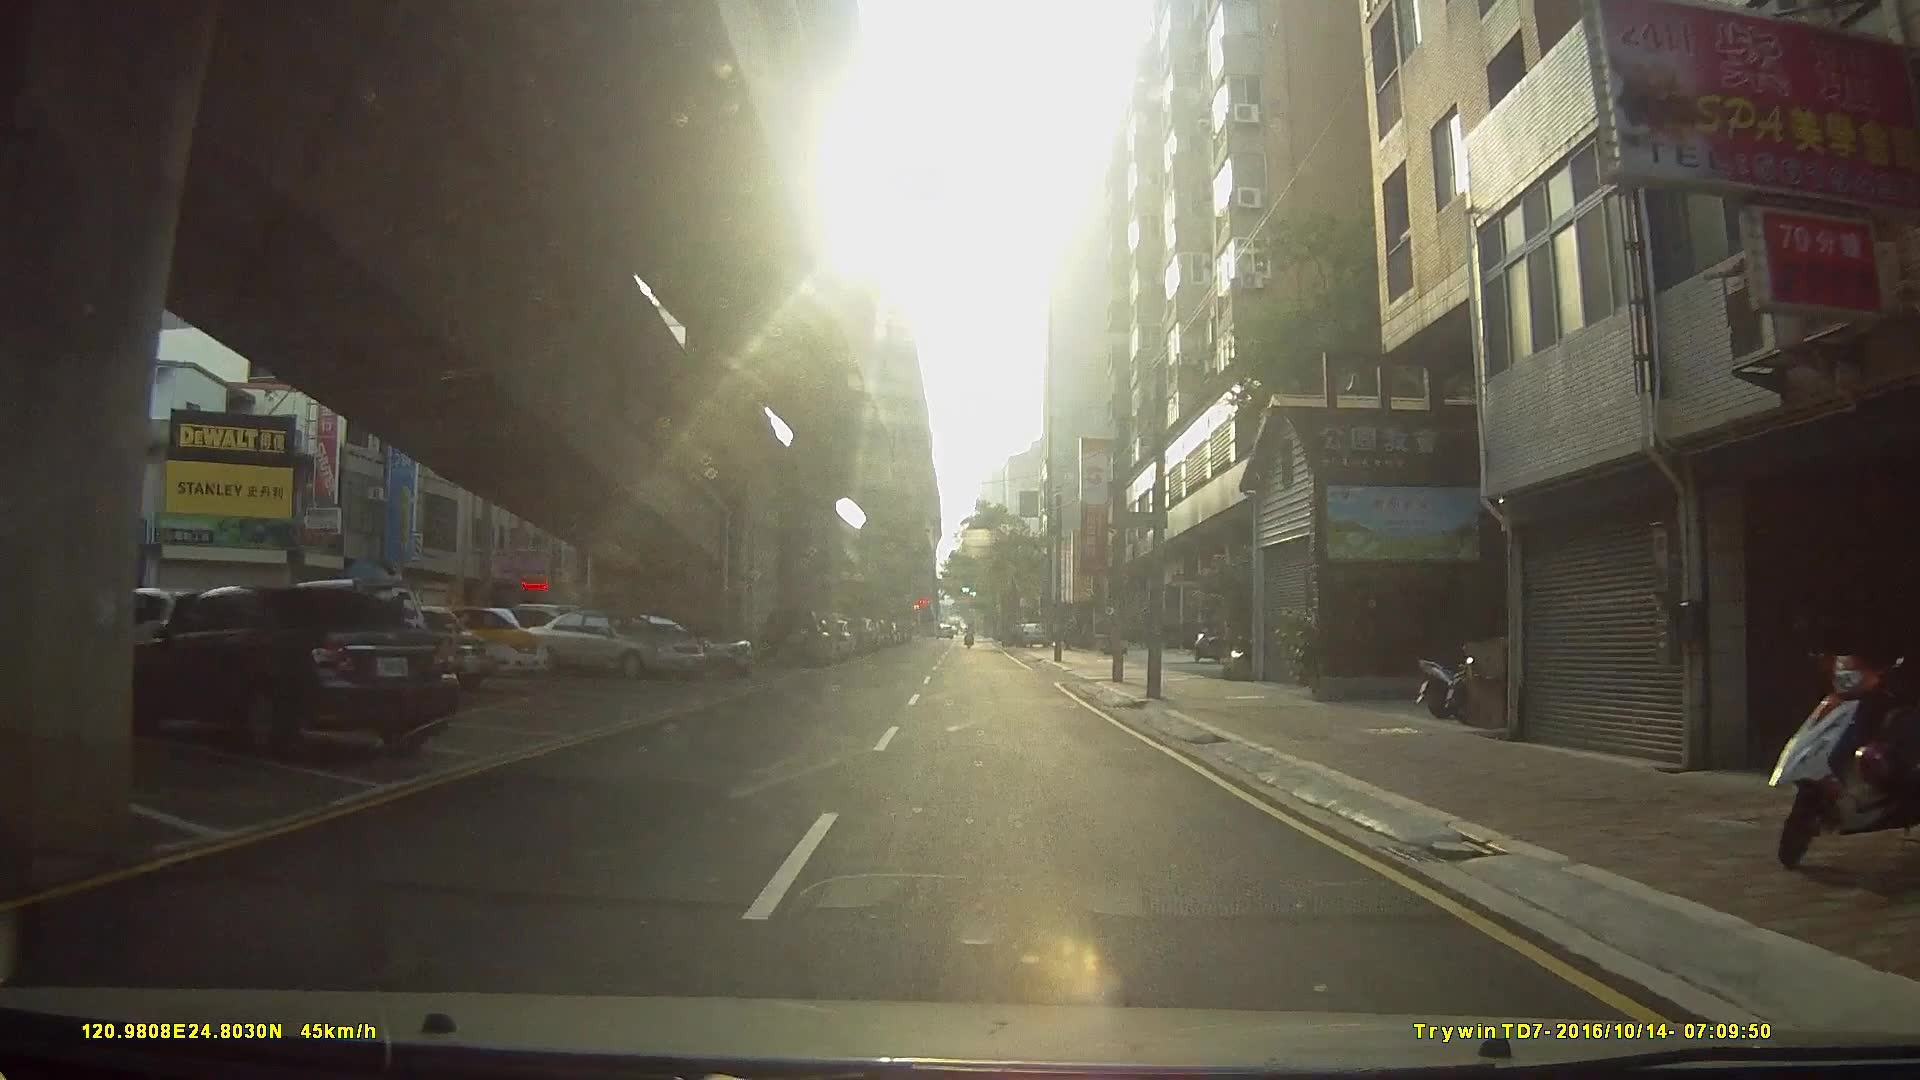vehicle: (121, 582, 455, 760), (516, 603, 705, 675), (583, 607, 754, 678), (411, 601, 549, 675), (757, 600, 833, 665)
